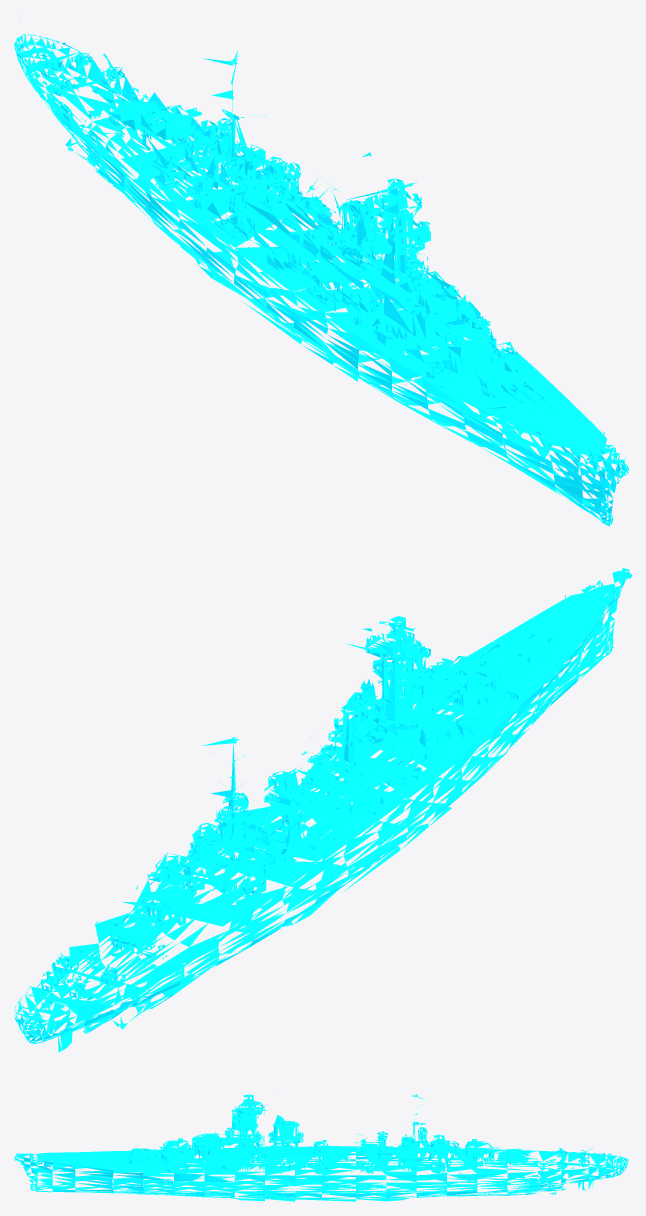
The model's file is Clausewitz_PLUS.glb.
3 renders of one model, top to bottom at view 1: azimuth 30°, elevation 25°; view 2: azimuth 150°, elevation 25°; view 3: azimuth 270°, elevation 25°, orthographic. The views are drawn at different scales.
Bounding box in the file's own units: 1.7 × 2.8 × 15.38.
